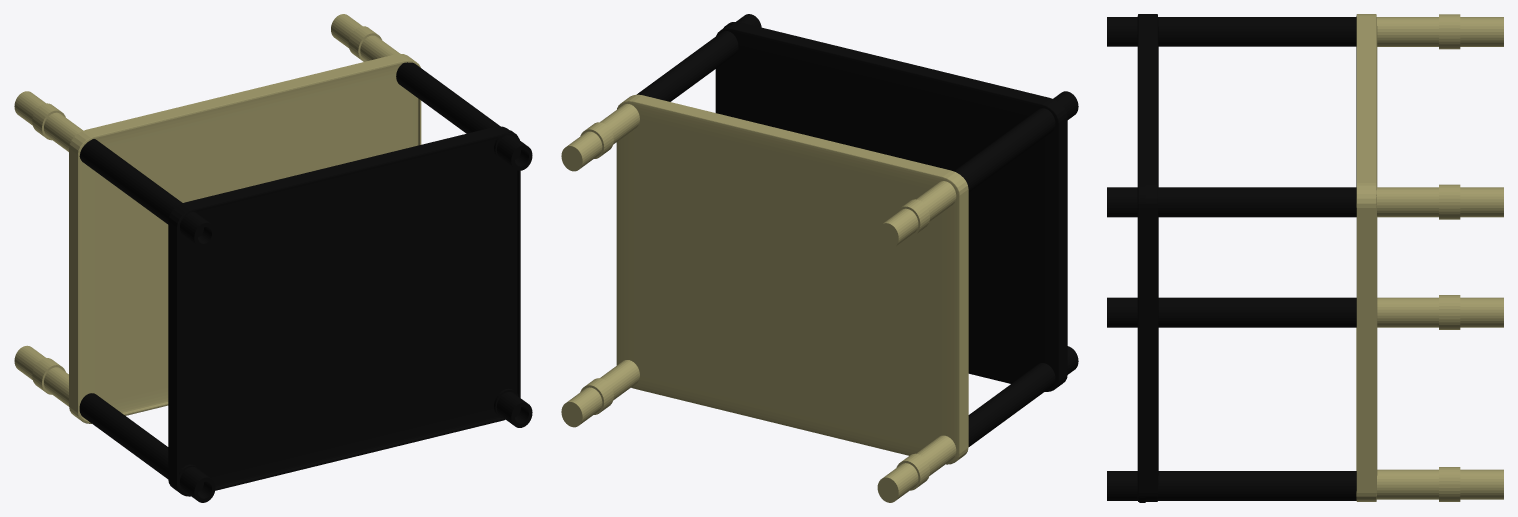
File: office_coffeetable.obj
3 views of the same model, side by side, from view 1: azimuth 30°, elevation 25°; view 2: azimuth 150°, elevation 25°; view 3: azimuth 270°, elevation 25° (orthographic). The views are drawn at different scales.
Parts seen in each view (by area): view 1: Cylinder.002_Cylinder.020; view 2: Cylinder.002_Cylinder.020; view 3: Cylinder.002_Cylinder.020.
Boxes of the visible parts, bbox=[...] form: Cylinder.002_Cylinder.020: bbox=[14, 14, 532, 502]; Cylinder.002_Cylinder.020: bbox=[561, 14, 1078, 502]; Cylinder.002_Cylinder.020: bbox=[1107, 14, 1503, 502].
Size of the model in its own units: 204 by 163 by 185.
